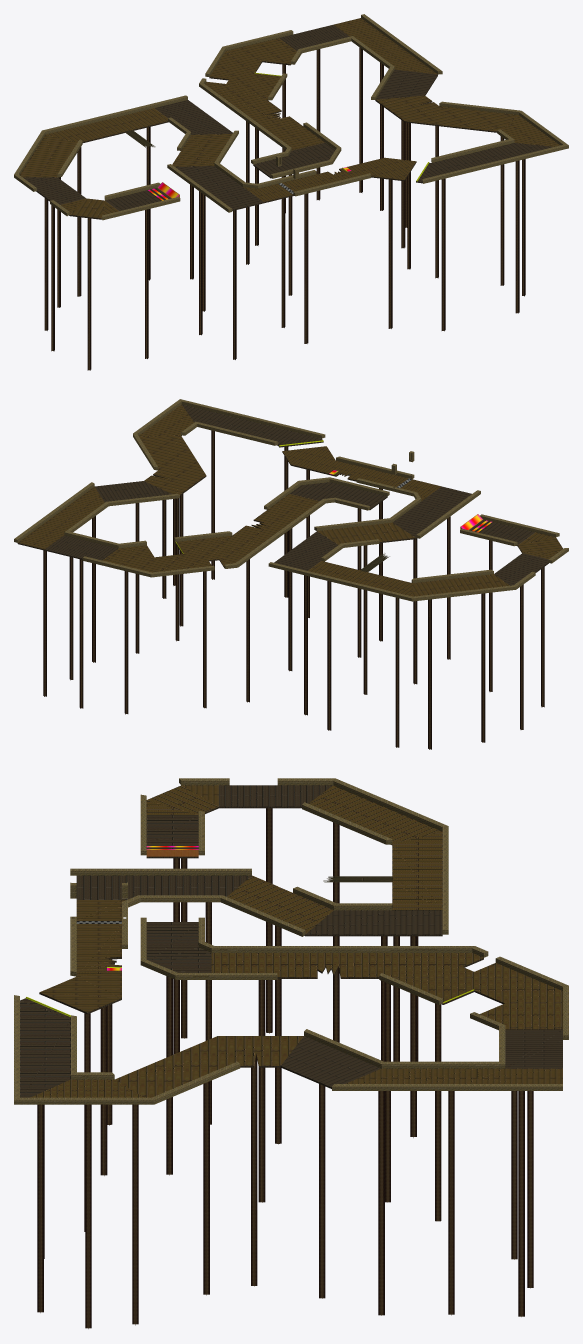
3 views of the same model, one above another, from view 1: azimuth 30°, elevation 25°; view 2: azimuth 150°, elevation 25°; view 3: azimuth 270°, elevation 25° (orthographic). The views are drawn at different scales.
Parts seen in each view (by area): view 1: crappy_ghost_track_Main-Material4, crappy_ghost_track_Main-Material12, crappy_ghost_track_Main-Material10, crappy_ghost_track_Main-Material5, crappy_ghost_track_Main-Material9; view 2: crappy_ghost_track_Main-Material4, crappy_ghost_track_Main-Material12, crappy_ghost_track_Main-Material10, crappy_ghost_track_Main-Material5, crappy_ghost_track_Main-Material9; view 3: crappy_ghost_track_Main-Material4, crappy_ghost_track_Main-Material12, crappy_ghost_track_Main-Material5, crappy_ghost_track_Main-Material10, crappy_ghost_track_Main-Material9.
Boxes of the visible parts, <box> form: crappy_ghost_track_Main-Material4: <box>20,18,559,218</box>; crappy_ghost_track_Main-Material12: <box>44,47,525,370</box>; crappy_ghost_track_Main-Material10: <box>14,14,568,220</box>; crappy_ghost_track_Main-Material5: <box>23,25,553,210</box>; crappy_ghost_track_Main-Material9: <box>36,61,497,219</box>; crappy_ghost_track_Main-Material4: <box>18,404,562,596</box>; crappy_ghost_track_Main-Material12: <box>43,430,544,749</box>; crappy_ghost_track_Main-Material10: <box>14,399,568,601</box>; crappy_ghost_track_Main-Material5: <box>45,404,548,585</box>; crappy_ghost_track_Main-Material9: <box>17,435,548,572</box>; crappy_ghost_track_Main-Material4: <box>31,785,562,1097</box>; crappy_ghost_track_Main-Material12: <box>37,808,533,1328</box>; crappy_ghost_track_Main-Material5: <box>20,785,562,1097</box>; crappy_ghost_track_Main-Material10: <box>14,778,568,1104</box>; crappy_ghost_track_Main-Material9: <box>39,806,504,1088</box>.
Size of the model in its own units: 67644 by 27075 by 49288.
13 materials, 13 textured.
